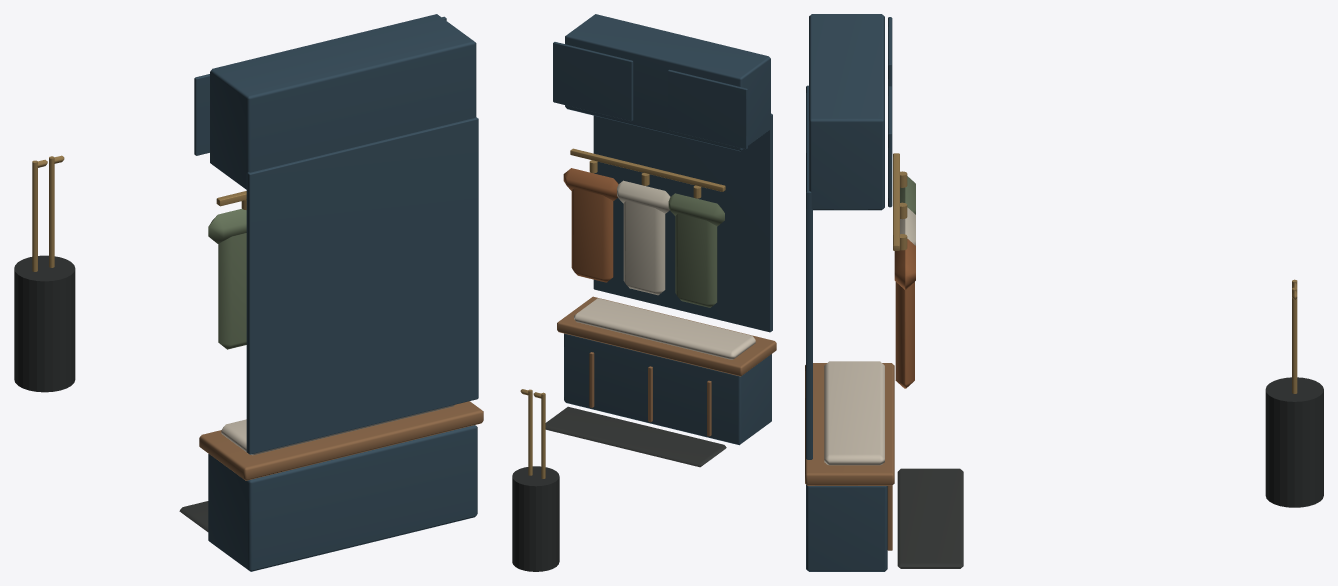
Rendered from mudroom-furniture-v002.glb.
3 renders of one model, left to right at view 1: azimuth 30°, elevation 25°; view 2: azimuth 150°, elevation 25°; view 3: azimuth 270°, elevation 25°, orthographic. The views are drawn at different scales.
Parts seen in each view (by area): view 1: Export Mudroom bench carcass; view 2: Export Mudroom bench carcass; view 3: Export Mudroom bench carcass.
Part boxes in pixels (x1=…): Export Mudroom bench carcass: x1=14, y1=14, x2=483, y2=571; Export Mudroom bench carcass: x1=512, y1=14, x2=776, y2=571; Export Mudroom bench carcass: x1=805, y1=14, x2=1323, y2=571.
Size of the model in its own units: 1.42 by 2.6 by 2.66.
